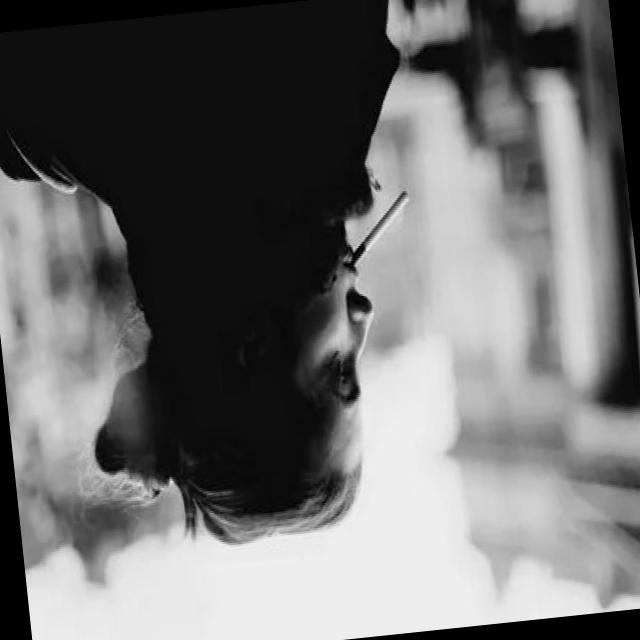smoke: (338, 186, 418, 273)
